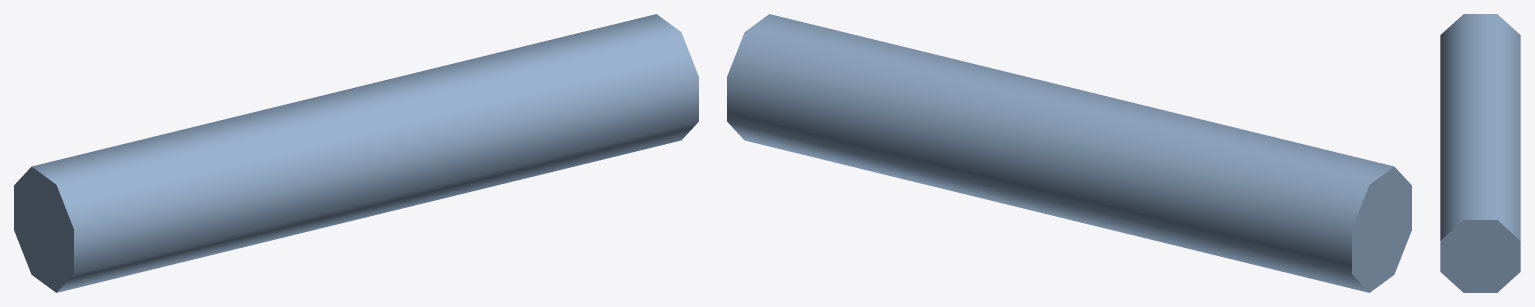
The model's file is 0326_Blue_Chalk.glb.
The picture shows the model from 3 angles, left to right: view 1: azimuth 30°, elevation 25°; view 2: azimuth 150°, elevation 25°; view 3: azimuth 270°, elevation 25°; orthographic projection. The views are drawn at different scales.
Parts seen in each view (by area): view 1: part_0; view 2: part_0; view 3: part_0.
Boxes of the visible parts, bbox=[...] form: part_0: bbox=[14, 14, 698, 292]; part_0: bbox=[727, 14, 1411, 292]; part_0: bbox=[1440, 14, 1520, 292].
Bounding box in the file's own units: 0.065 × 0.0108 × 0.0108.
Materials: 1 (1 with a texture image).
